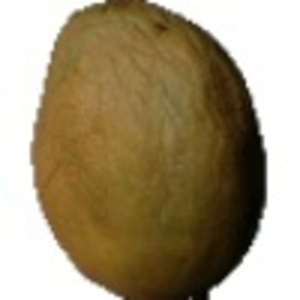mamão: (26, 2, 272, 294)
